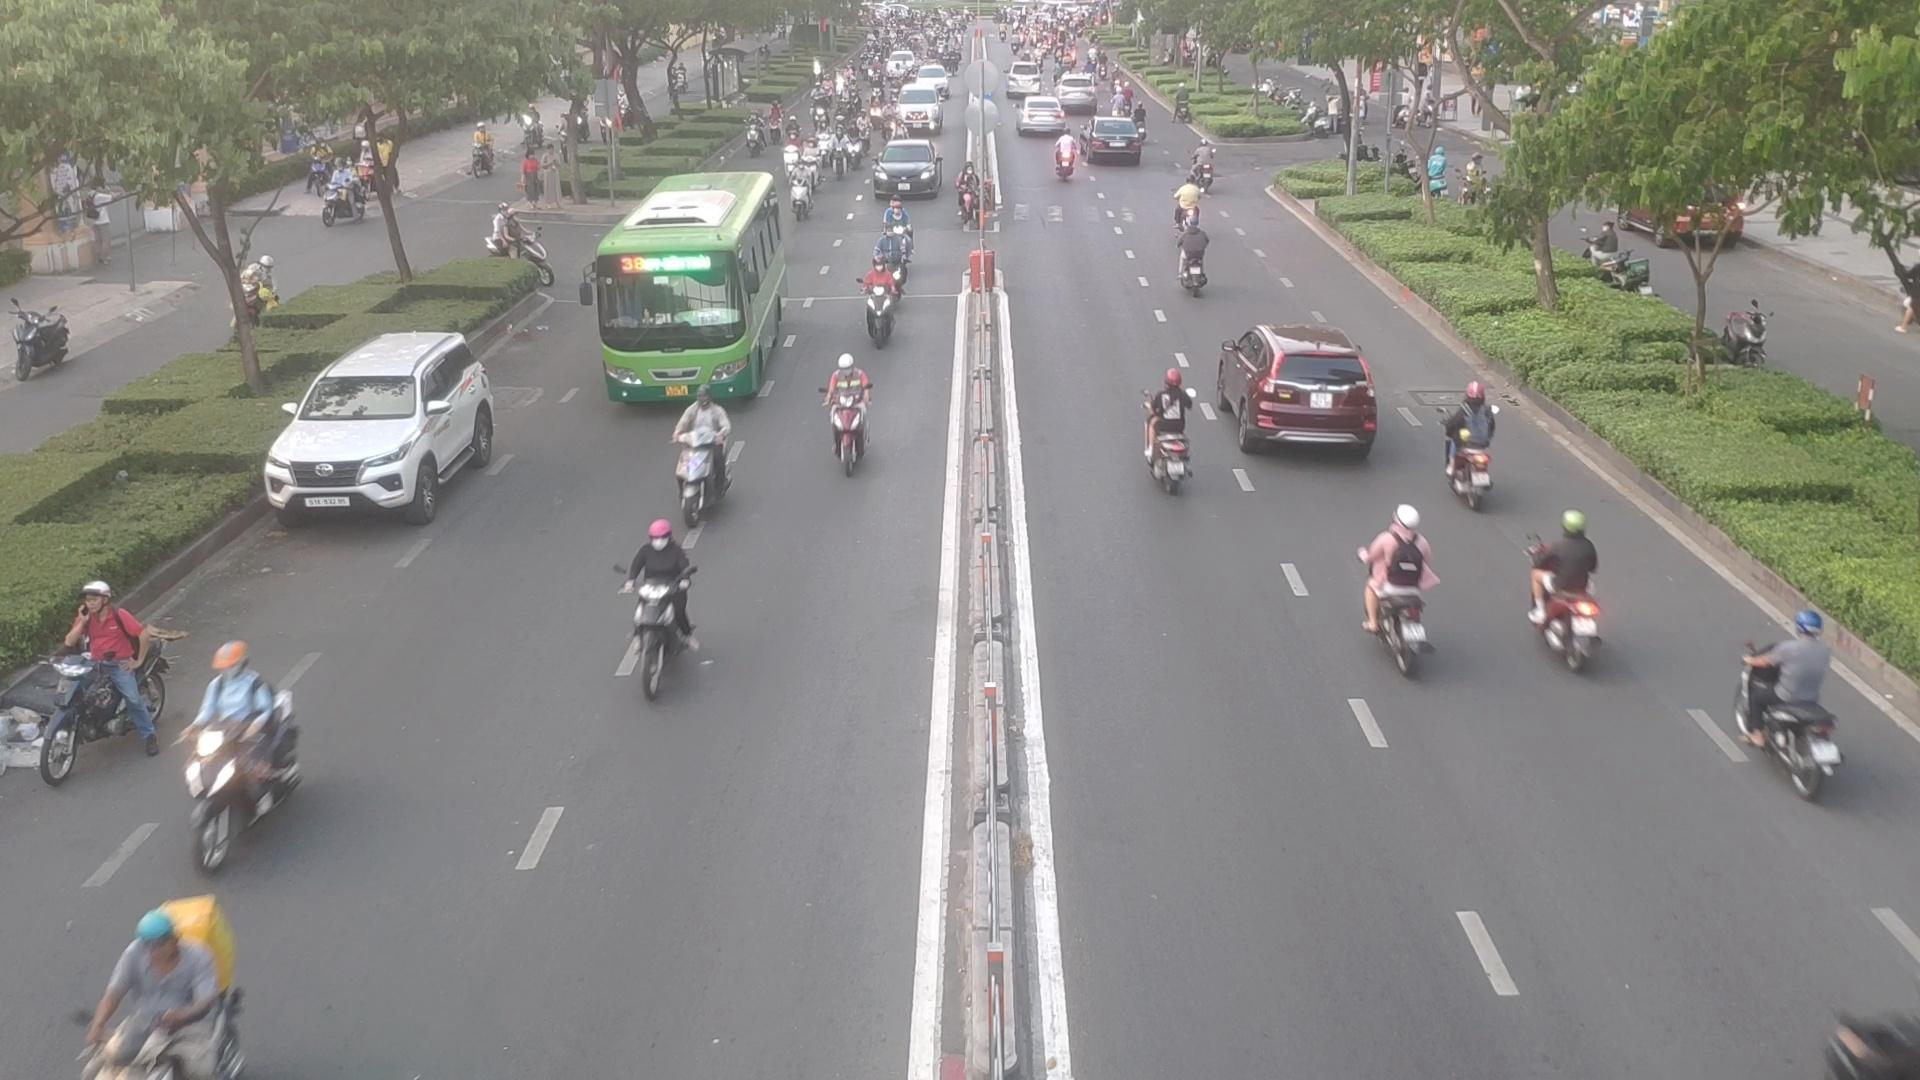bus: (593, 200, 802, 411)
car: (266, 331, 512, 527), (1215, 316, 1381, 456), (876, 142, 949, 204), (1077, 117, 1147, 164), (1017, 99, 1068, 138)
motorbike: (80, 909, 249, 1080), (173, 651, 301, 858), (41, 584, 171, 781), (1720, 607, 1846, 800), (613, 525, 702, 695), (1350, 514, 1445, 669), (1528, 513, 1615, 669), (673, 392, 752, 514), (1129, 371, 1199, 495), (1439, 386, 1505, 506), (818, 353, 884, 471), (852, 265, 909, 355), (963, 171, 1009, 236), (1050, 133, 1080, 179), (837, 124, 866, 170)
